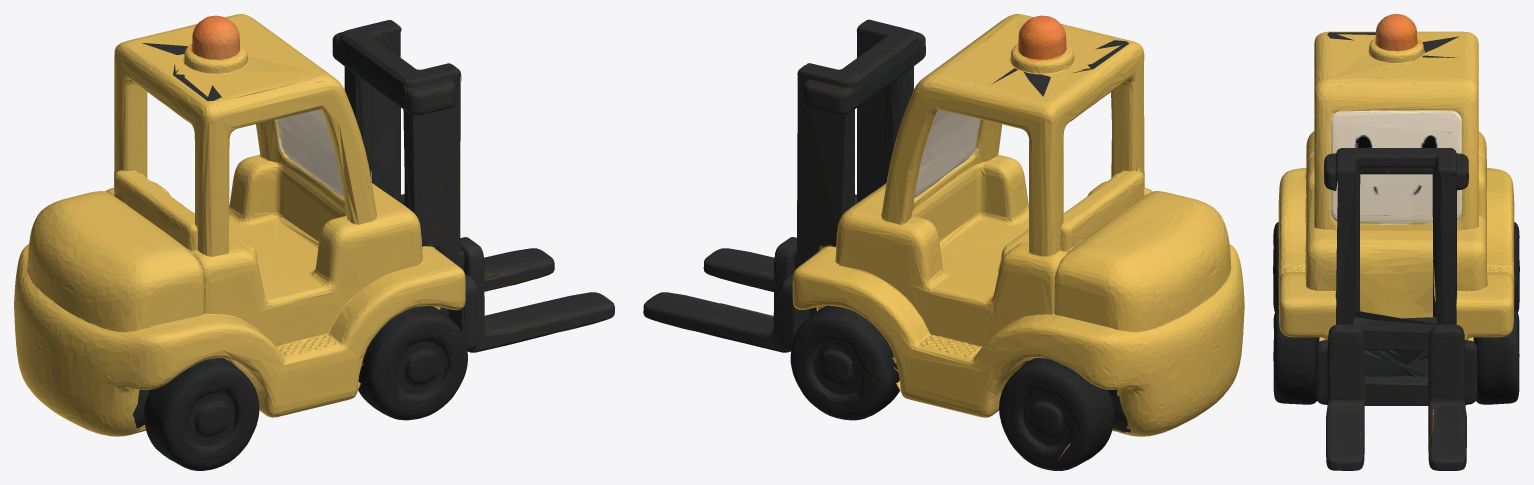
File: forklift_v1.glb
3 renders of one model, left to right at view 1: azimuth 30°, elevation 25°; view 2: azimuth 150°, elevation 25°; view 3: azimuth 270°, elevation 25°, orthographic. The views are drawn at different scales.
Visible parts, largest first — view 1: body_mesh, carriage_mesh, beacon_mesh, wheelR_mesh, wheelF_mesh; view 2: body_mesh, carriage_mesh, wheelR_mesh, wheelF_mesh, beacon_mesh; view 3: body_mesh, carriage_mesh, beacon_mesh.
Boxes of the visible parts, left/top/right/bottom form: body_mesh: left=14, top=14, right=467, bottom=458; carriage_mesh: left=401, top=194, right=614, bottom=352; beacon_mesh: left=130, top=22, right=321, bottom=128; wheelR_mesh: left=125, top=379, right=253, bottom=470; wheelF_mesh: left=357, top=330, right=460, bottom=420; body_mesh: left=790, top=14, right=1244, bottom=458; carriage_mesh: left=643, top=194, right=856, bottom=352; wheelR_mesh: left=1006, top=378, right=1132, bottom=470; wheelF_mesh: left=797, top=328, right=901, bottom=420; beacon_mesh: left=939, top=18, right=1129, bottom=126; body_mesh: left=1273, top=14, right=1519, bottom=404; carriage_mesh: left=1315, top=308, right=1477, bottom=470; beacon_mesh: left=1314, top=19, right=1478, bottom=80.
Bounding box in the file's own units: 2.2 × 1.5 × 1.03.
1 material, 1 textured.
